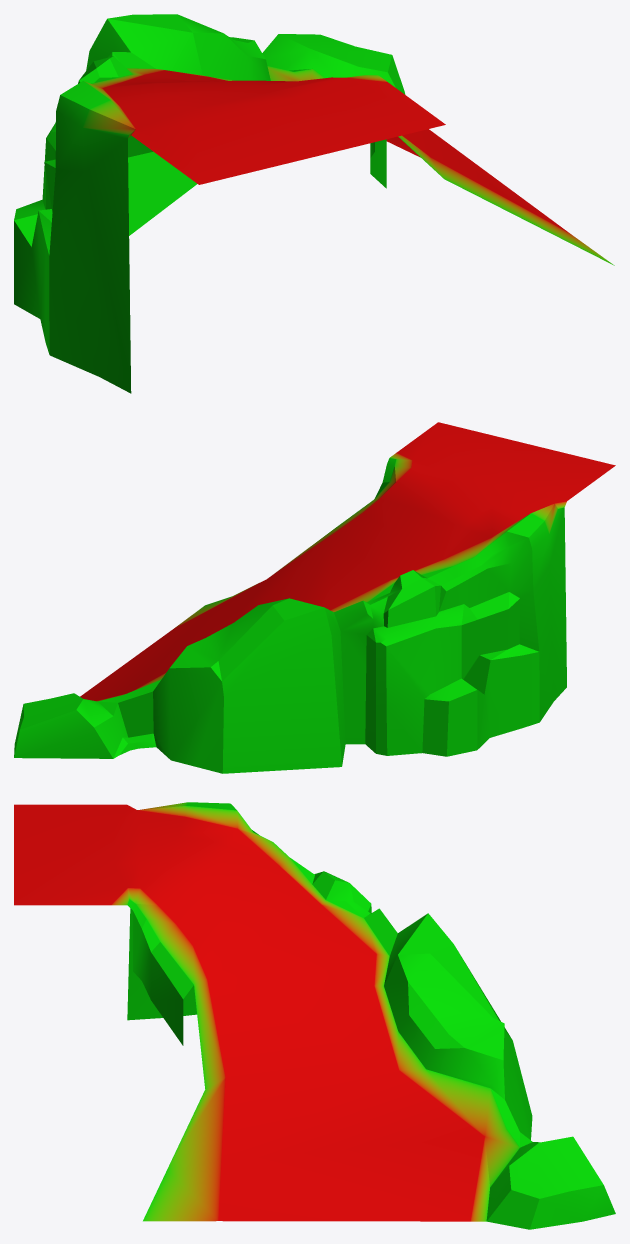
File: Cliff_EdgeRamp.fbx
3 views of the same model, one above another, from view 1: azimuth 30°, elevation 25°; view 2: azimuth 150°, elevation 25°; view 3: azimuth 270°, elevation 25° (orthographic). The views are drawn at different scales.
Visible parts, largest first — view 1: cliff_edgeRamp_A; view 2: cliff_edgeRamp_A; view 3: cliff_edgeRamp_A.
Part boxes in pixels (x1=…): cliff_edgeRamp_A: x1=14, y1=14, x2=614, y2=393; cliff_edgeRamp_A: x1=14, y1=422, x2=615, y2=773; cliff_edgeRamp_A: x1=14, y1=802, x2=615, y2=1229.
Bounding box in the file's own units: 434 × 506 × 205.
